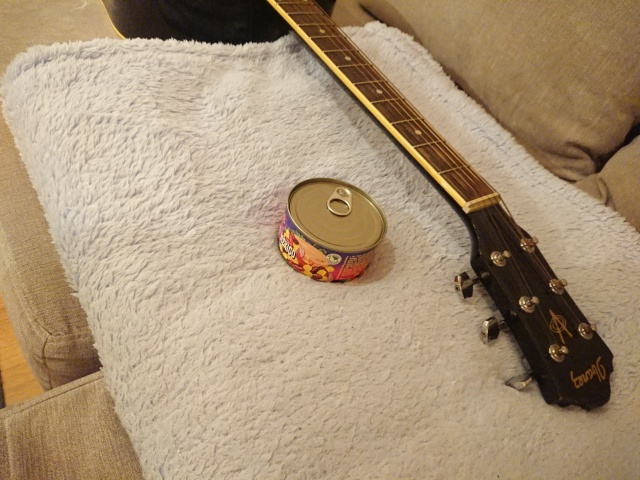Giana Tuna Salad Mexico 185g: (273, 175, 390, 287)
